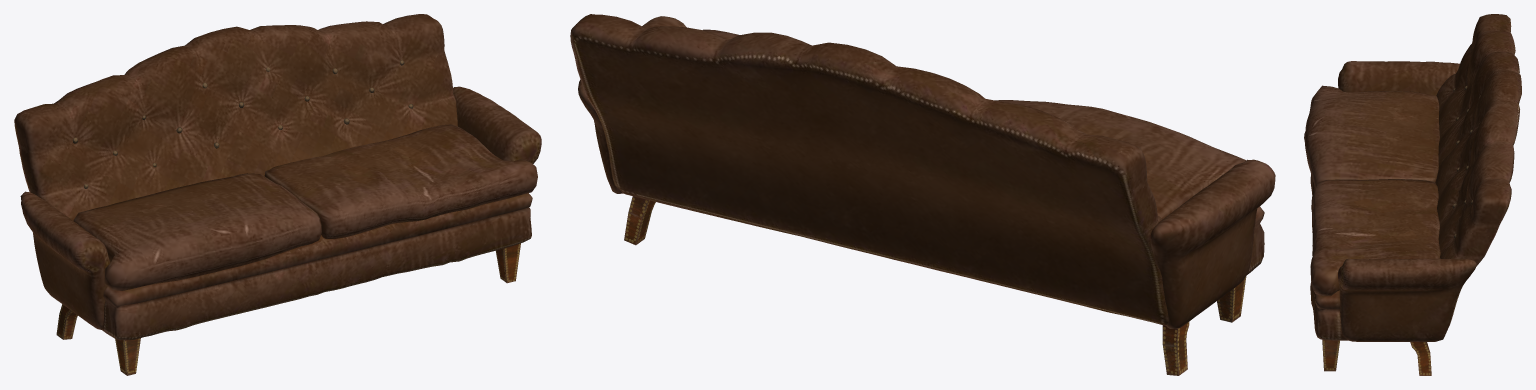
The model's file is sofa.glb.
The picture shows the model from 3 angles, left to right: view 1: azimuth 30°, elevation 25°; view 2: azimuth 150°, elevation 25°; view 3: azimuth 270°, elevation 25°; orthographic projection. The views are drawn at different scales.
Parts seen in each view (by area): view 1: Cube.019_main_leather_0; view 2: Cube.019_main_leather_0; view 3: Cube.019_main_leather_0.
Part boxes in pixels (x1,y1,x2,y2): Cube.019_main_leather_0: (14, 14, 541, 375); Cube.019_main_leather_0: (570, 14, 1275, 375); Cube.019_main_leather_0: (1304, 14, 1521, 375).
Bounding box in the file's own units: 2.12 × 0.966 × 0.9232.
3 materials, 3 textured.
